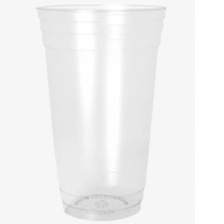glass: (33, 0, 171, 224)
